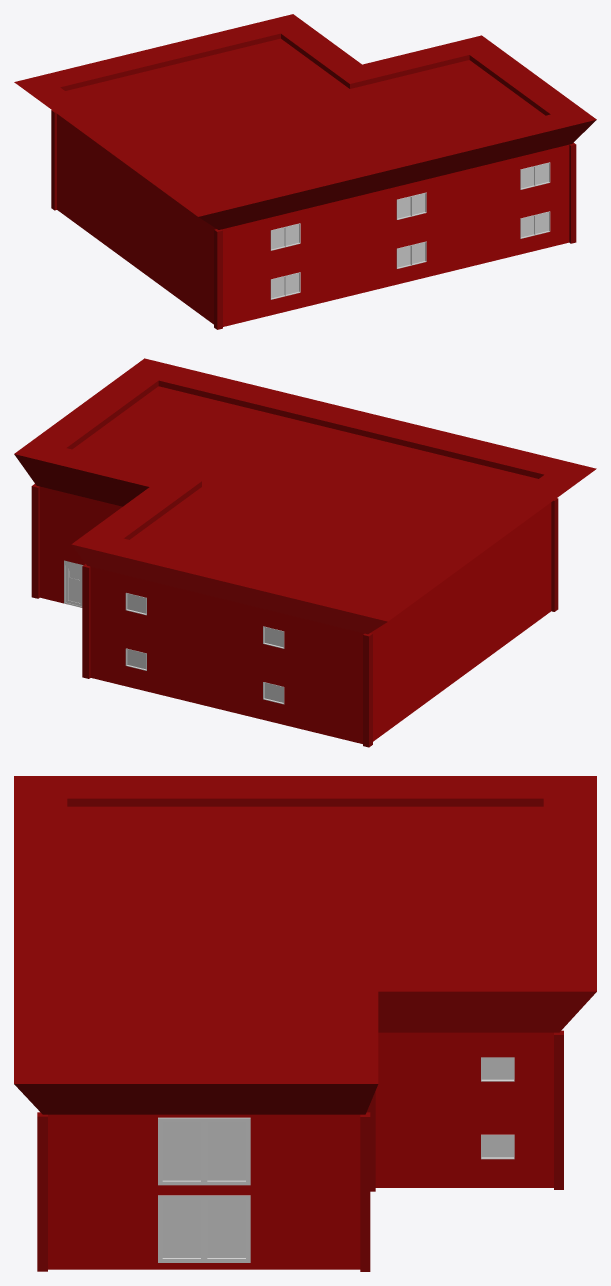
File: House_25.fbx
The picture shows the model from 3 angles, top to bottom: view 1: azimuth 30°, elevation 25°; view 2: azimuth 150°, elevation 25°; view 3: azimuth 270°, elevation 25°; orthographic projection. The views are drawn at different scales.
Visible parts, largest first — view 1: House_25_Body; view 2: House_25_Body; view 3: House_25_Body.
Boxes of the visible parts, x1,y1,x2,y2 form: House_25_Body: (14,14,596,329); House_25_Body: (14,358,596,747); House_25_Body: (14,776,596,1271).
Size of the model in its own units: 2256 by 676 by 1805.
